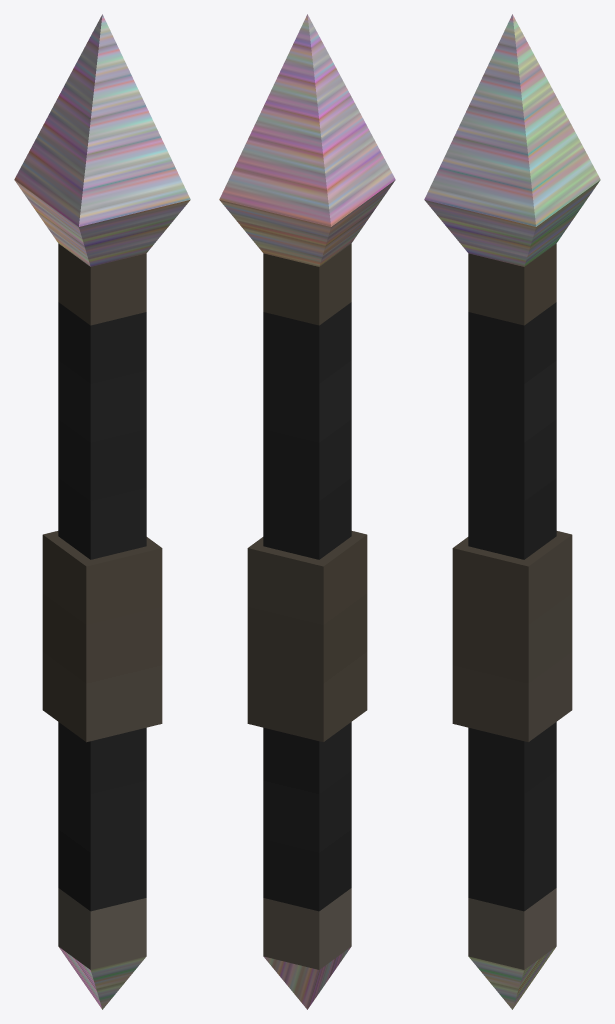
File: manaweaving_advanced_linked.obj
3 renders of one model, left to right at view 1: azimuth 30°, elevation 25°; view 2: azimuth 150°, elevation 25°; view 3: azimuth 330°, elevation 25°, orthographic.
Visible parts, largest first — view 1: WAND_ADVANCED_Cube.007; view 2: WAND_ADVANCED_Cube.007; view 3: WAND_ADVANCED_Cube.007.
Boxes of the visible parts, left/top/right/bottom form: WAND_ADVANCED_Cube.007: left=14, top=14, right=190, bottom=1009; WAND_ADVANCED_Cube.007: left=219, top=14, right=395, bottom=1009; WAND_ADVANCED_Cube.007: left=424, top=14, right=600, bottom=1009.
Bounding box in the file's own units: 0.125 × 1.06 × 0.125.
